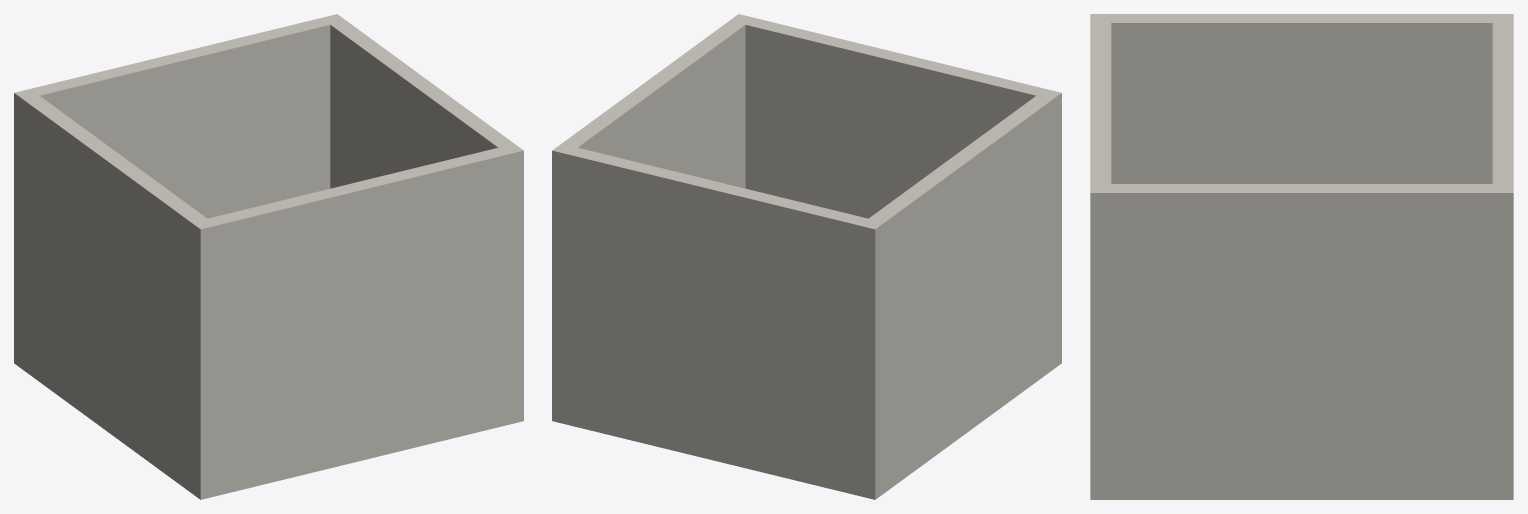
Rendered from white_shelf.fbx.
The picture shows the model from 3 angles, left to right: view 1: azimuth 30°, elevation 25°; view 2: azimuth 150°, elevation 25°; view 3: azimuth 270°, elevation 25°; orthographic projection. The views are drawn at different scales.
Parts seen in each view (by area): view 1: Cube; view 2: Cube; view 3: Cube.
Part boxes in pixels (x1,y1,x2,y2): Cube: (14, 14, 523, 499); Cube: (552, 14, 1061, 499); Cube: (1090, 14, 1513, 499).
Size of the model in its own units: 200 by 160 by 200.
